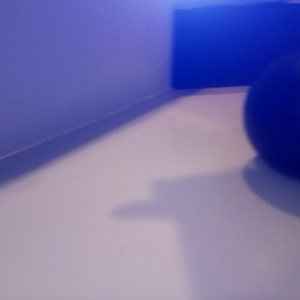dead_ball: (241, 50, 300, 179)
